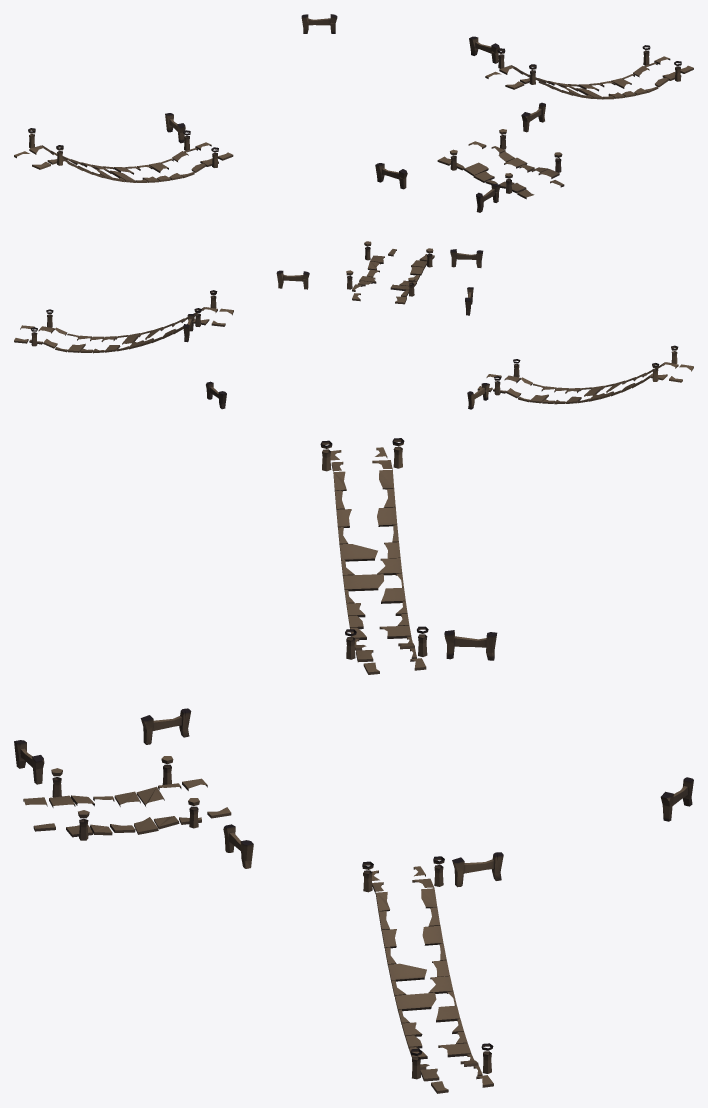
File: Ground_Wood_01.FBX
3 views of the same model, one above another, from view 1: azimuth 30°, elevation 25°; view 2: azimuth 150°, elevation 25°; view 3: azimuth 270°, elevation 25° (orthographic). The views are drawn at different scales.
Visible parts, largest first — view 1: Ground_Wood_01; view 2: Ground_Wood_01; view 3: Ground_Wood_01.
Boxes of the visible parts, x1,y1,x2,y2 form: Ground_Wood_01: (14,14,693,212); Ground_Wood_01: (14,241,693,409); Ground_Wood_01: (14,438,693,1093).
Size of the model in its own units: 39.94 by 6.48 by 22.87.
